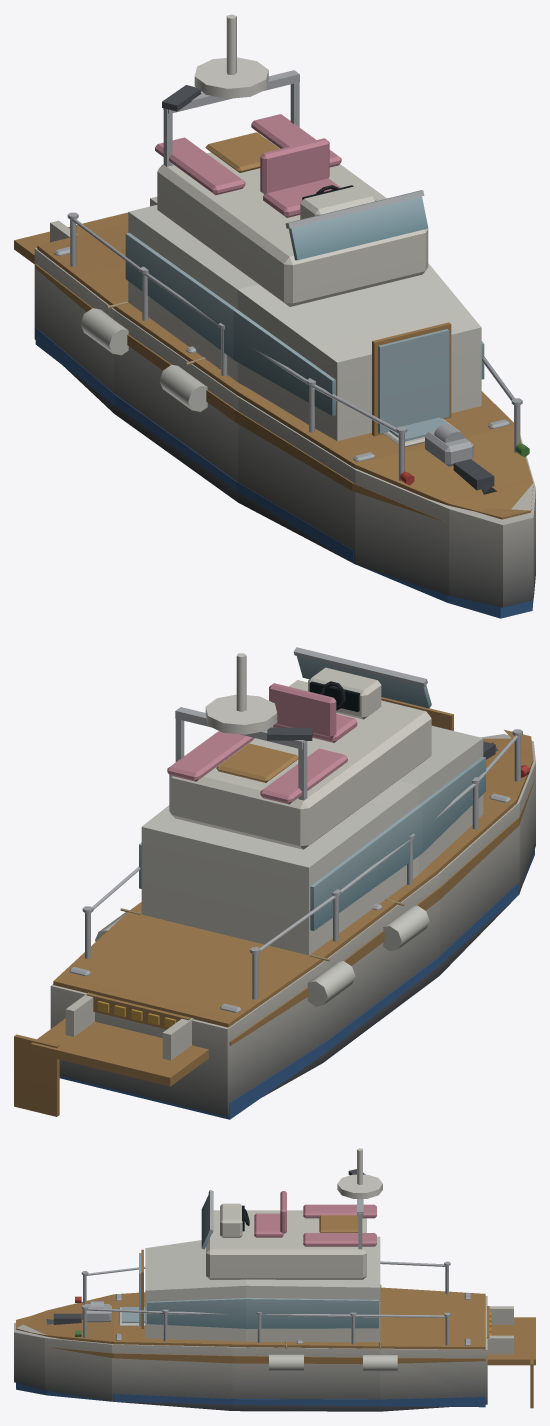
File: motor_yacht_vessel.glb
3 views of the same model, one above another, from view 1: azimuth 30°, elevation 25°; view 2: azimuth 150°, elevation 25°; view 3: azimuth 270°, elevation 25° (orthographic). The views are drawn at different scales.
Visible parts, largest first — view 1: motor_yacht_vessel; view 2: motor_yacht_vessel; view 3: motor_yacht_vessel.
Part boxes in pixels (left/top/right/bottom): motor_yacht_vessel: left=14, top=14, right=535, bottom=618; motor_yacht_vessel: left=14, top=647, right=535, bottom=1119; motor_yacht_vessel: left=14, top=1148, right=535, bottom=1411.
Bounding box in the file's own units: 3.3 × 5.11 × 10.27.
